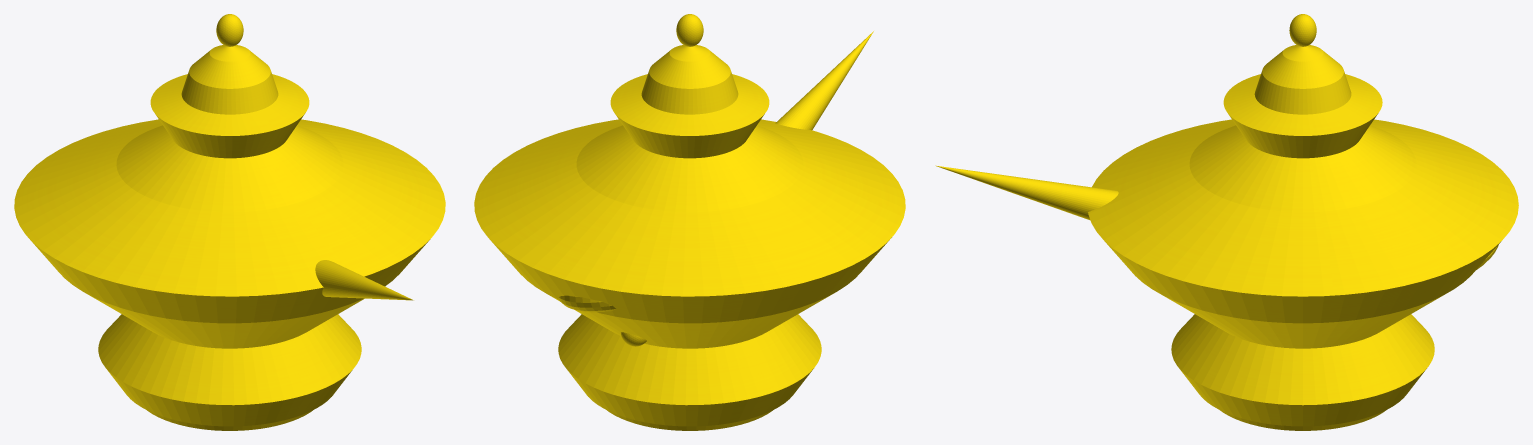
3 renders of one model, left to right at view 1: azimuth 30°, elevation 25°; view 2: azimuth 150°, elevation 25°; view 3: azimuth 270°, elevation 25°, orthographic.
Visible parts, largest first — view 1: part_7, part_2, part_6, part_1, part_0; view 2: part_7, part_2, part_6, part_1, part_0, part_5; view 3: part_7, part_2, part_6, part_1, part_0.
Boxes of the visible parts, x1=… form: part_7: x1=14, y1=74, x2=445, y2=426; part_2: x1=181, y1=45, x2=278, y2=114; part_6: x1=315, y1=260, x2=413, y2=300; part_1: x1=216, y1=14, x2=243, y2=46; part_0: x1=147, y1=410, x2=312, y2=430; part_7: x1=474, y1=74, x2=905, y2=426; part_2: x1=641, y1=45, x2=738, y2=114; part_6: x1=775, y1=31, x2=873, y2=130; part_1: x1=676, y1=14, x2=703, y2=46; part_0: x1=607, y1=410, x2=772, y2=430; part_5: x1=558, y1=295, x2=615, y2=312; part_7: x1=1088, y1=74, x2=1518, y2=426; part_2: x1=1254, y1=45, x2=1351, y2=114; part_6: x1=935, y1=165, x2=1118, y2=220; part_1: x1=1289, y1=14, x2=1316, y2=46; part_0: x1=1220, y1=410, x2=1385, y2=430.
Bounding box in the file's own units: 0.738 × 0.7089 × 1.
1 material, 1 textured.
